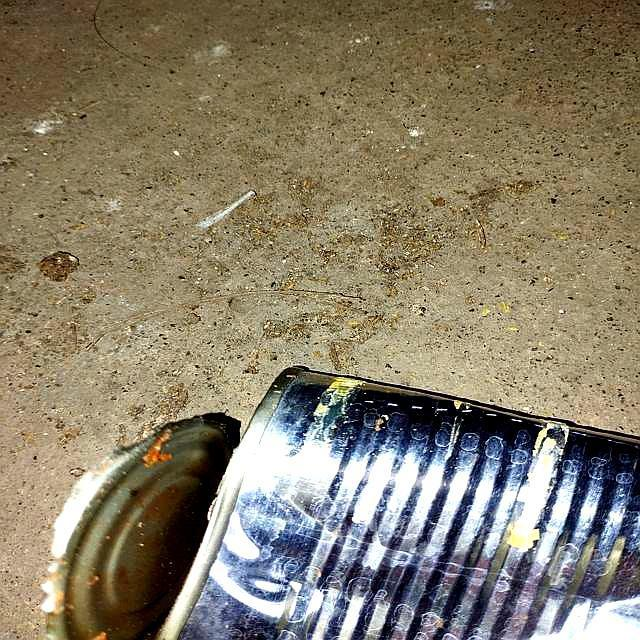Non-biodegradable: (50, 368, 640, 640)
